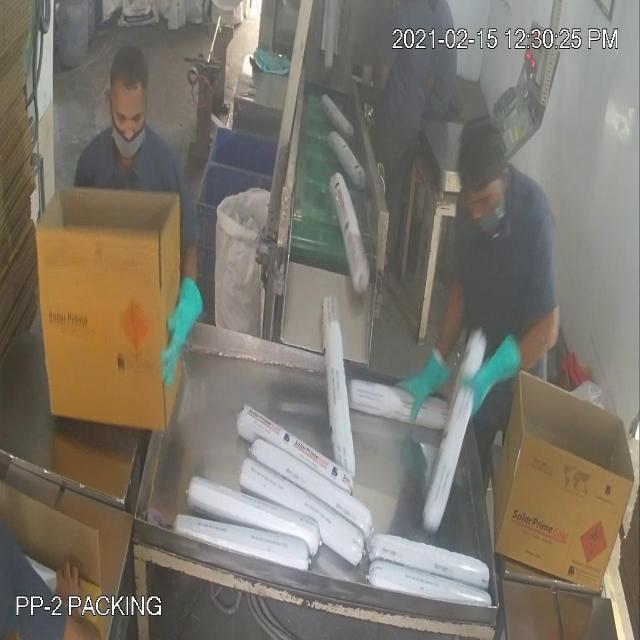Gloves: (62, 96, 493, 388)
